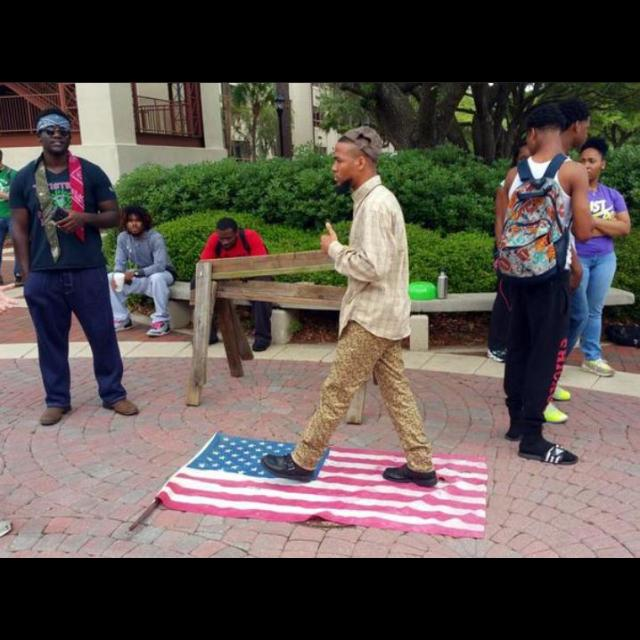head: (331, 130, 381, 192), (522, 102, 568, 154), (36, 109, 74, 155), (556, 101, 592, 147), (512, 140, 542, 176), (580, 147, 608, 183), (218, 217, 240, 251), (124, 207, 146, 236), (0, 150, 8, 167)
person: (255, 124, 441, 492), (8, 106, 142, 428), (494, 102, 600, 470), (509, 95, 595, 427), (551, 133, 635, 379), (484, 139, 562, 365), (191, 216, 279, 354), (93, 204, 179, 338), (0, 146, 28, 289)
